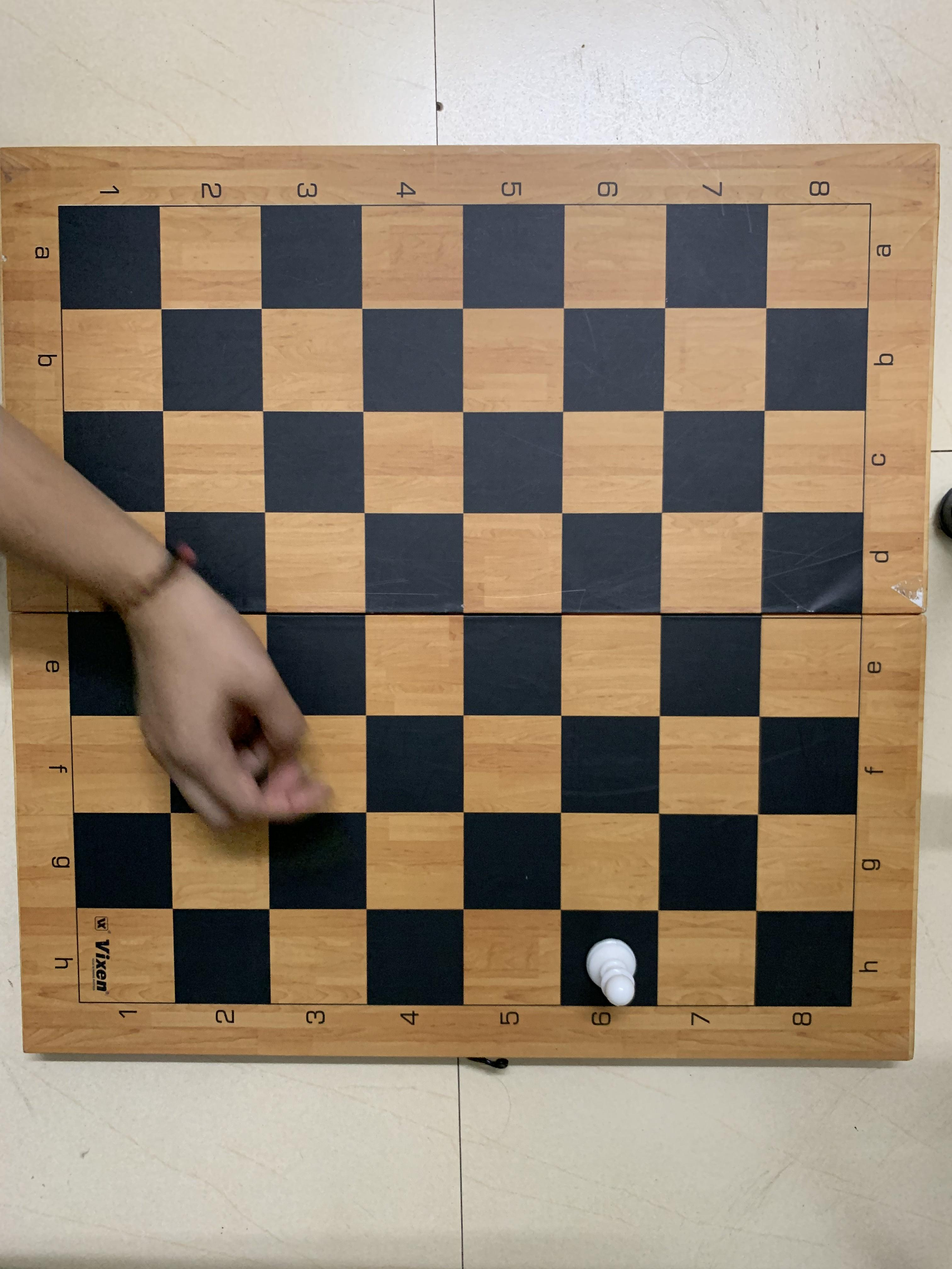white_pawn: (557, 907, 659, 1011)
